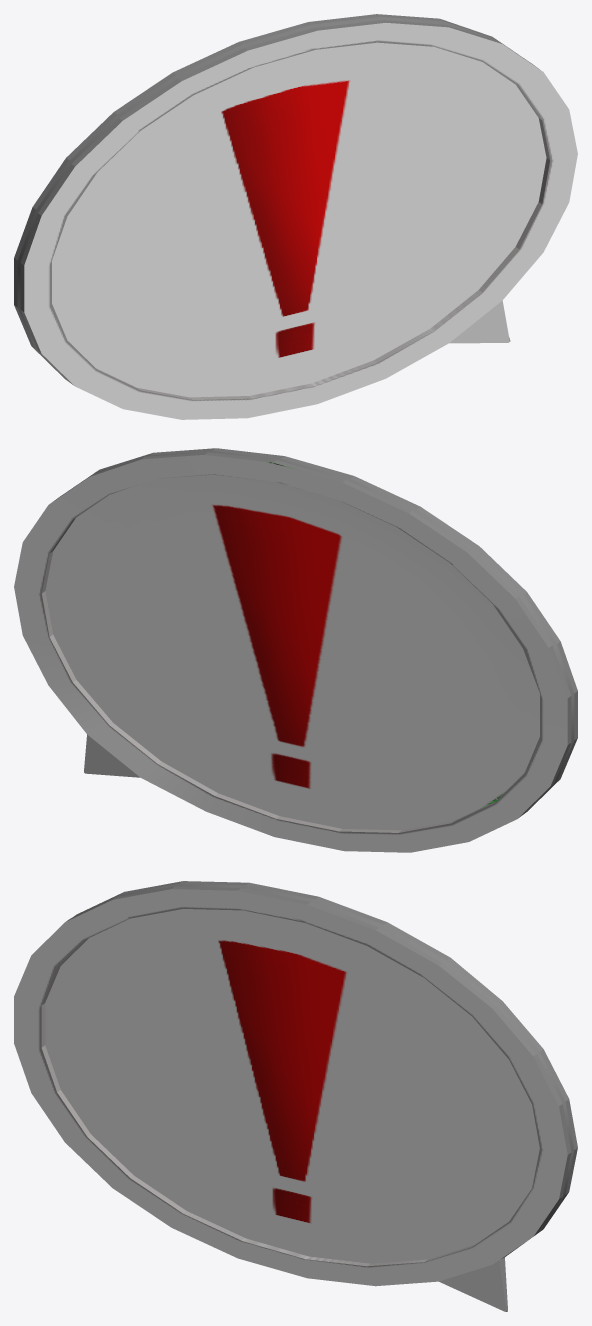
The model's file is Bocadillo1.FBX.
The picture shows the model from 3 angles, top to bottom: view 1: azimuth 30°, elevation 25°; view 2: azimuth 150°, elevation 25°; view 3: azimuth 330°, elevation 25°; orthographic projection.
Parts seen in each view (by area): view 1: Cylinder001; view 2: Cylinder001; view 3: Cylinder001.
Part boxes in pixels (x1,y1,x2,y2): Cylinder001: (14, 14, 577, 419); Cylinder001: (14, 448, 577, 852); Cylinder001: (14, 881, 577, 1311).
Size of the model in its own units: 32.35 by 20.89 by 1.16.
